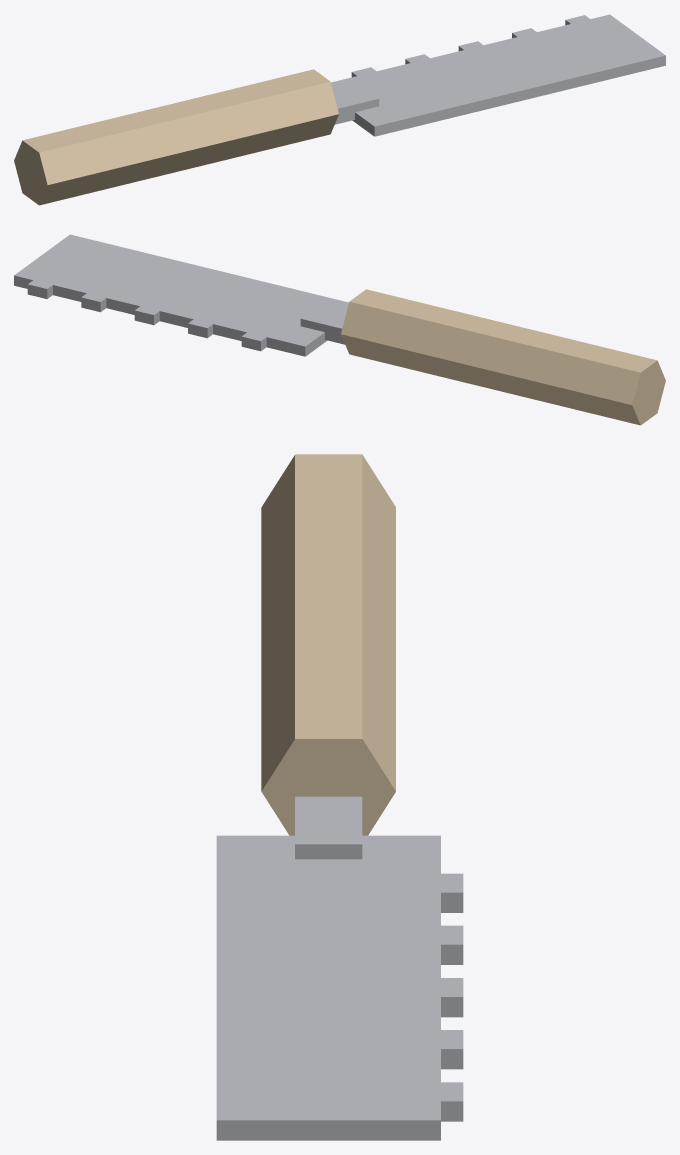
Rendered from prop-scaling-knife-fm1.fbx.
The picture shows the model from 3 angles, top to bottom: view 1: azimuth 30°, elevation 25°; view 2: azimuth 150°, elevation 25°; view 3: azimuth 270°, elevation 25°; orthographic projection. The views are drawn at different scales.
Parts seen in each view (by area): view 1: prop-scaling-knife-fm1; view 2: prop-scaling-knife-fm1; view 3: prop-scaling-knife-fm1.
Boxes of the visible parts, box(x1,y1,x2,y2) form: prop-scaling-knife-fm1: box(14, 14, 665, 205); prop-scaling-knife-fm1: box(14, 234, 665, 425); prop-scaling-knife-fm1: box(216, 454, 463, 1140).
Bounding box in the file's own units: 25 × 2.08 × 4.4.
